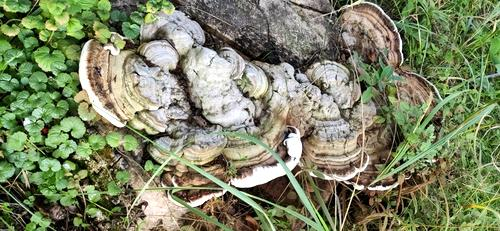Ganoderma - Fruit Body: (78, 9, 301, 207), (305, 0, 446, 192)
